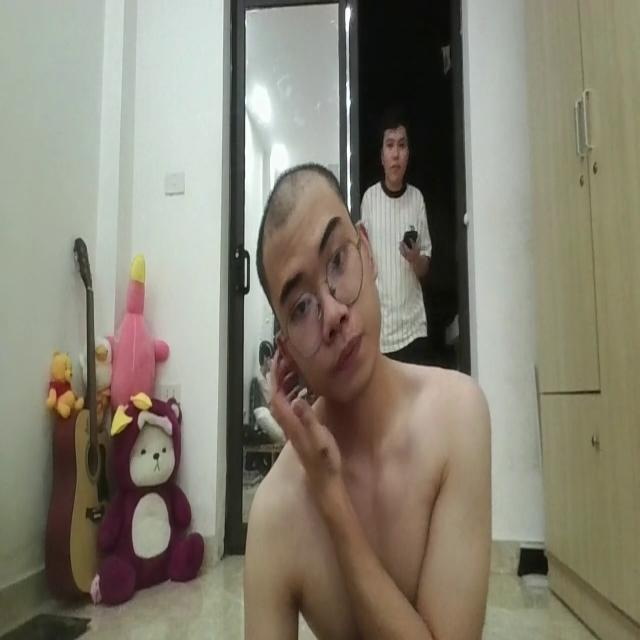extra_person: (354, 108, 442, 380)
phone: (404, 219, 421, 269)
student: (239, 153, 501, 640)
